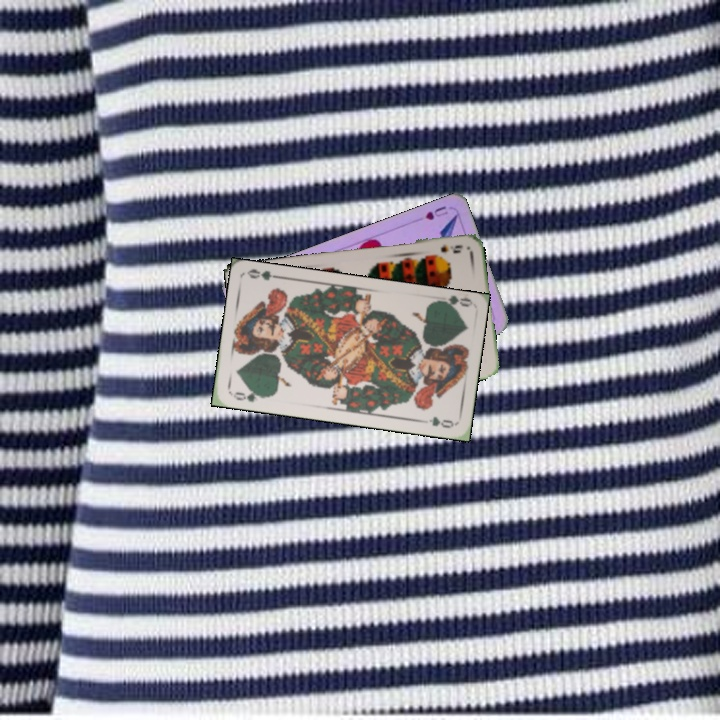GO: (431, 292, 472, 313), (228, 386, 268, 405)
HU: (421, 202, 450, 223)
S9: (437, 240, 465, 256)
